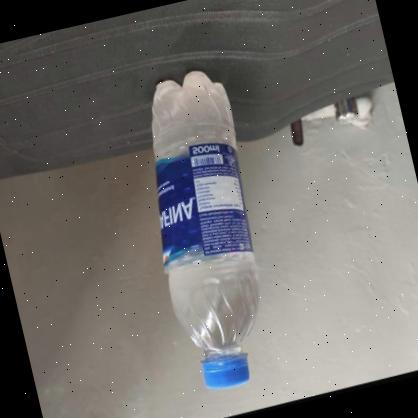bottle: (118, 63, 296, 397)
cap: (199, 350, 254, 392)
label: (140, 136, 260, 270)
